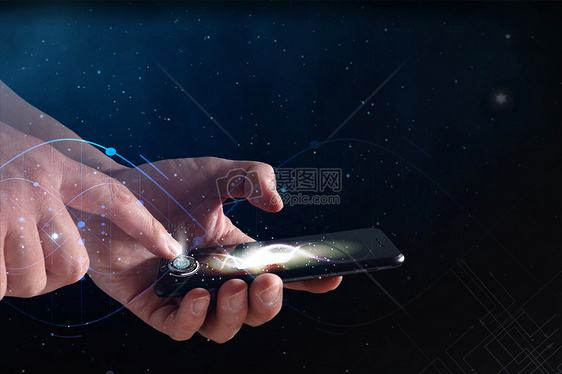phone: (79, 143, 410, 348)
